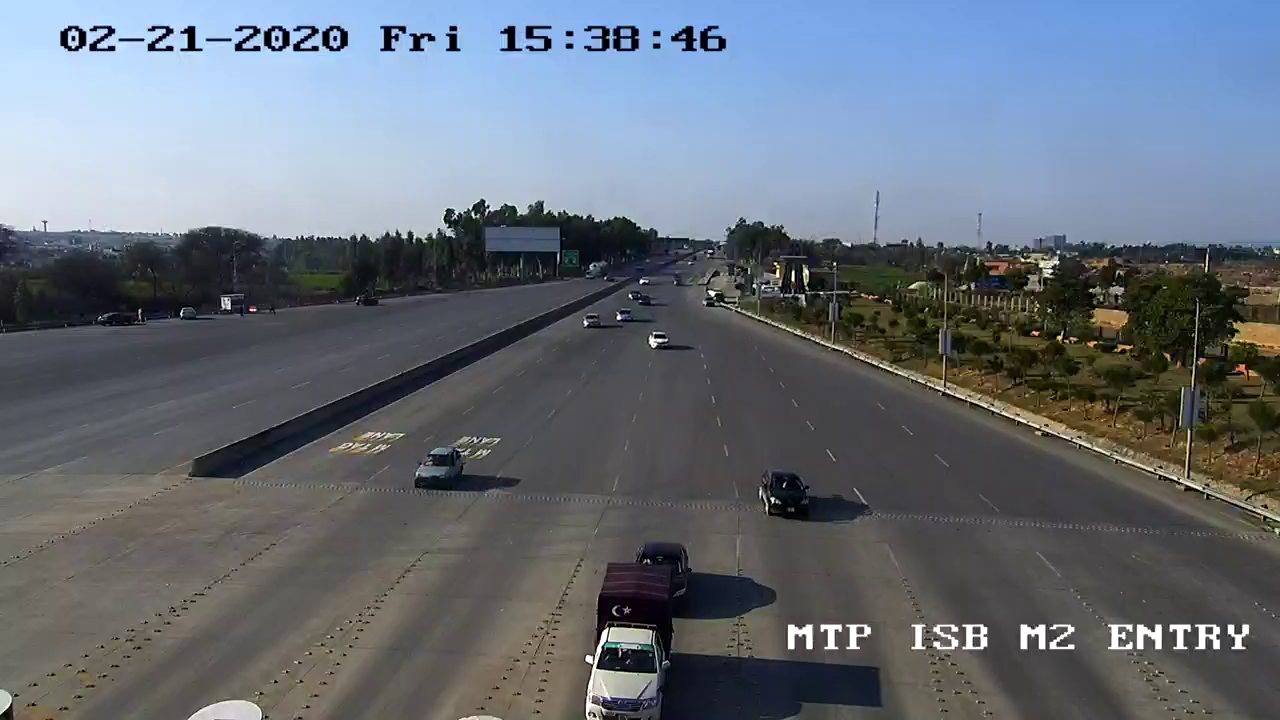f1: (745, 455, 825, 526), (406, 441, 478, 495)
f2: (574, 555, 680, 717)
